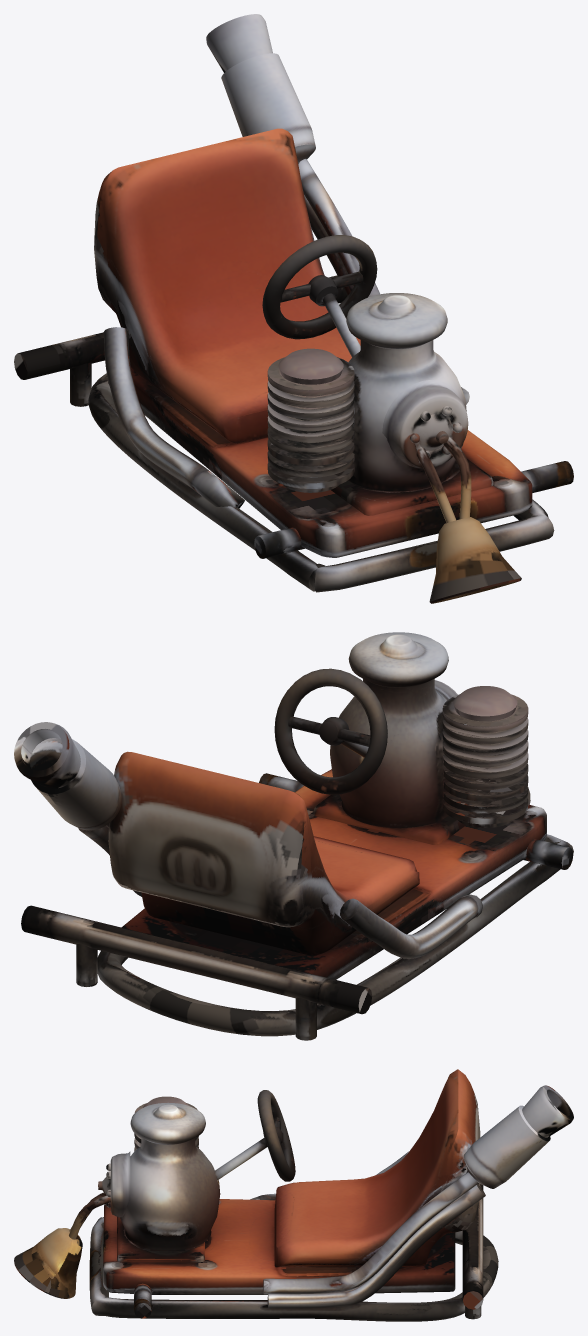
The picture shows the model from 3 angles, top to bottom: view 1: azimuth 30°, elevation 25°; view 2: azimuth 150°, elevation 25°; view 3: azimuth 270°, elevation 25°; orthographic projection. The views are drawn at different scales.
Parts seen in each view (by area): view 1: body, steering_wheel; view 2: body, steering_wheel; view 3: body, steering_wheel.
Boxes of the visible parts, x1,y1,x2,y2 form: body: (14, 14, 573, 603); steering_wheel: (262, 235, 377, 339); body: (14, 632, 573, 1040); steering_wheel: (274, 668, 387, 794); body: (14, 1069, 573, 1321); steering_wheel: (257, 1090, 295, 1181).
Size of the model in its own units: 0.8 by 0.7297 by 1.52.
Materials: 1 (1 with a texture image).
